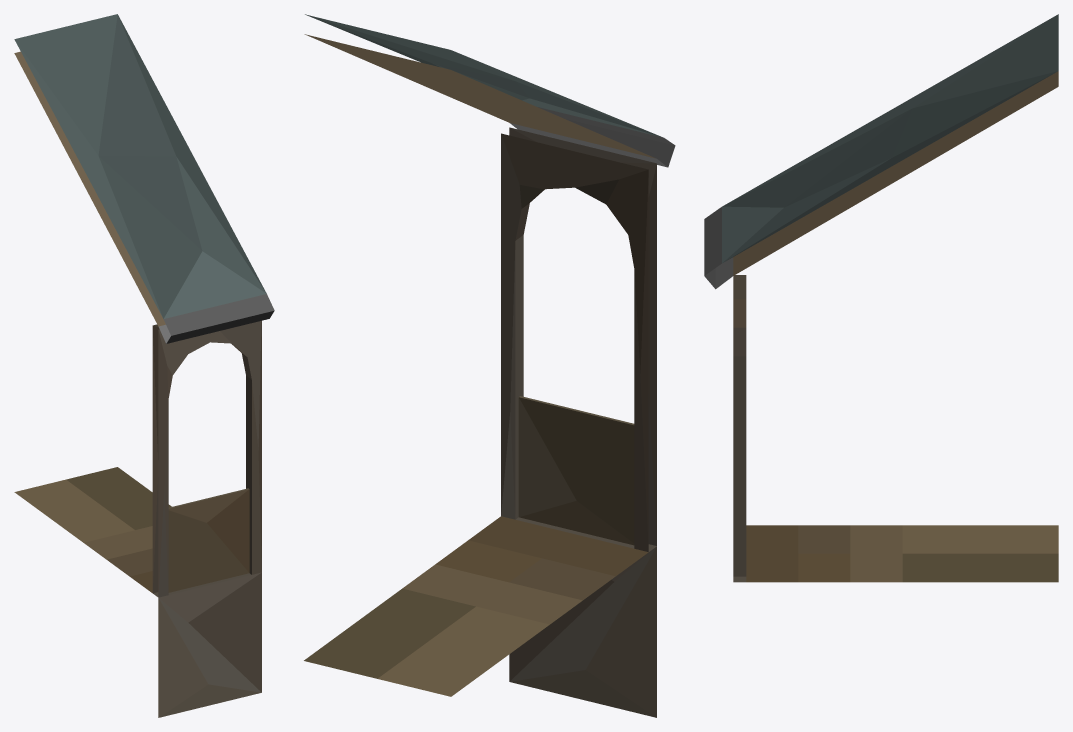
File: Addition_A-Side.fbx
3 views of the same model, side by side, from view 1: azimuth 30°, elevation 25°; view 2: azimuth 150°, elevation 25°; view 3: azimuth 270°, elevation 25° (orthographic). The views are drawn at different scales.
Parts seen in each view (by area): view 1: Addition_A-Side; view 2: Addition_A-Side; view 3: Addition_A-Side.
Boxes of the visible parts, x1,y1,x2,y2 form: Addition_A-Side: (14,14,274,717); Addition_A-Side: (304,14,675,717); Addition_A-Side: (704,14,1058,582).
Bounding box in the file's own units: 129 × 682 × 338.
